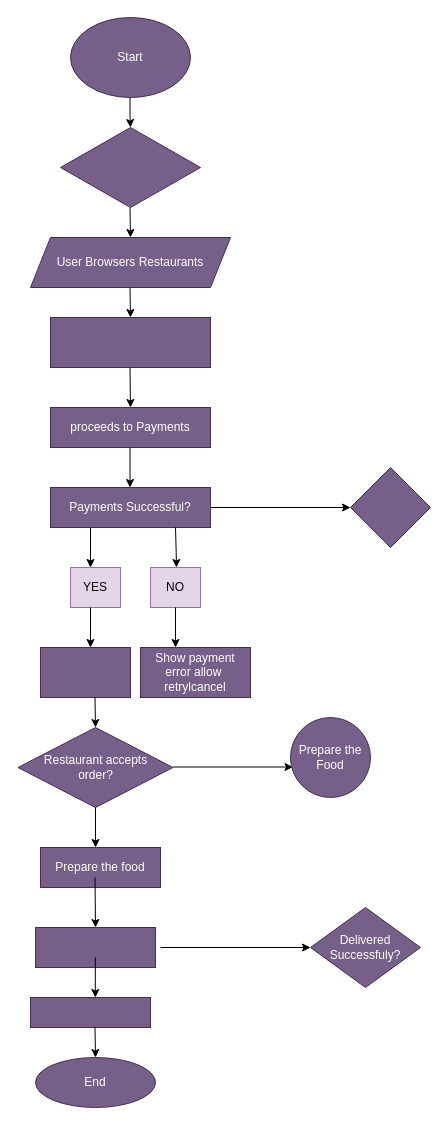
The diagram is 448 pixels wide and 1125 high, and some of its shapes have lost their labels. Here are the shapes that lost their labels. From the top down, the centre of each, then its label:
At (130,167): "User Launches the app".
At (130,342): "Adds items to cart".
At (390,507): "Decision".
At (85,672): "Send order to Restaurant".
At (95,947): "Order on route to user".
At (90,1012): "Request rating and Feedback".
